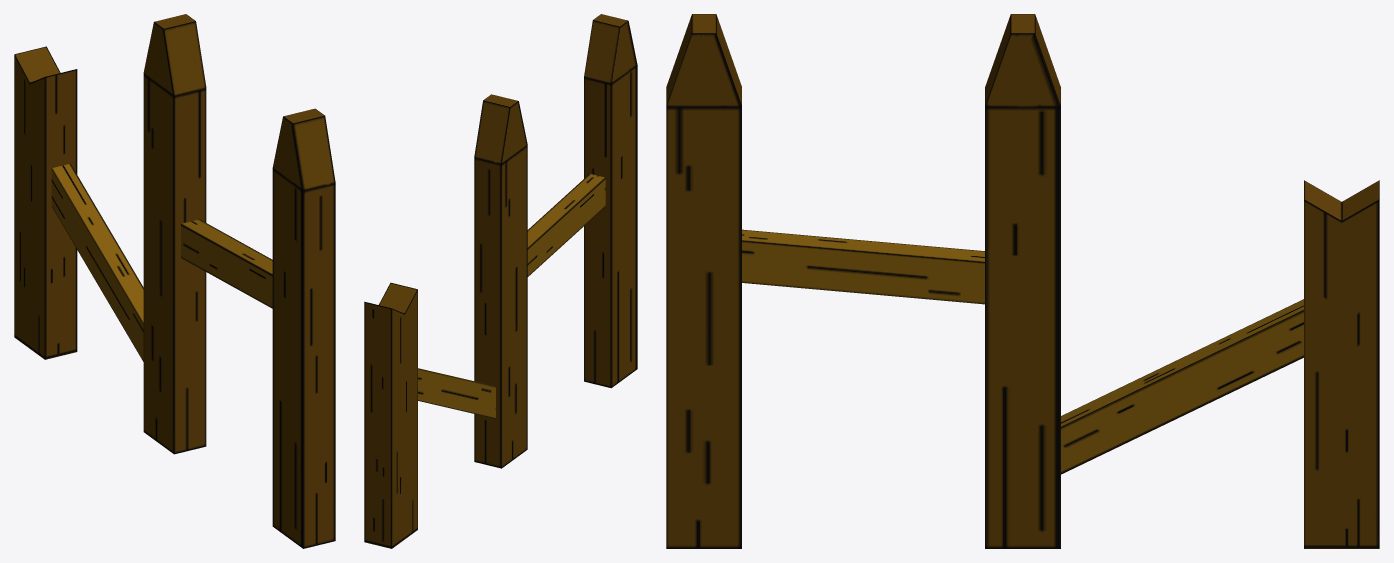
Rendered from Fence2_2.glb.
3 renders of one model, left to right at view 1: azimuth 30°, elevation 25°; view 2: azimuth 150°, elevation 25°; view 3: azimuth 270°, elevation 25°, orthographic. The views are drawn at different scales.
Visible parts, largest first — view 1: Fence2_2; view 2: Fence2_2; view 3: Fence2_2.
Boxes of the visible parts, x1,y1,x2,y2 form: Fence2_2: [14, 14, 335, 548]; Fence2_2: [364, 14, 637, 548]; Fence2_2: [666, 14, 1379, 548].
Bounding box in the file's own units: 0.1443 × 1.78 × 2.24.
Materials: 1 (1 with a texture image).
